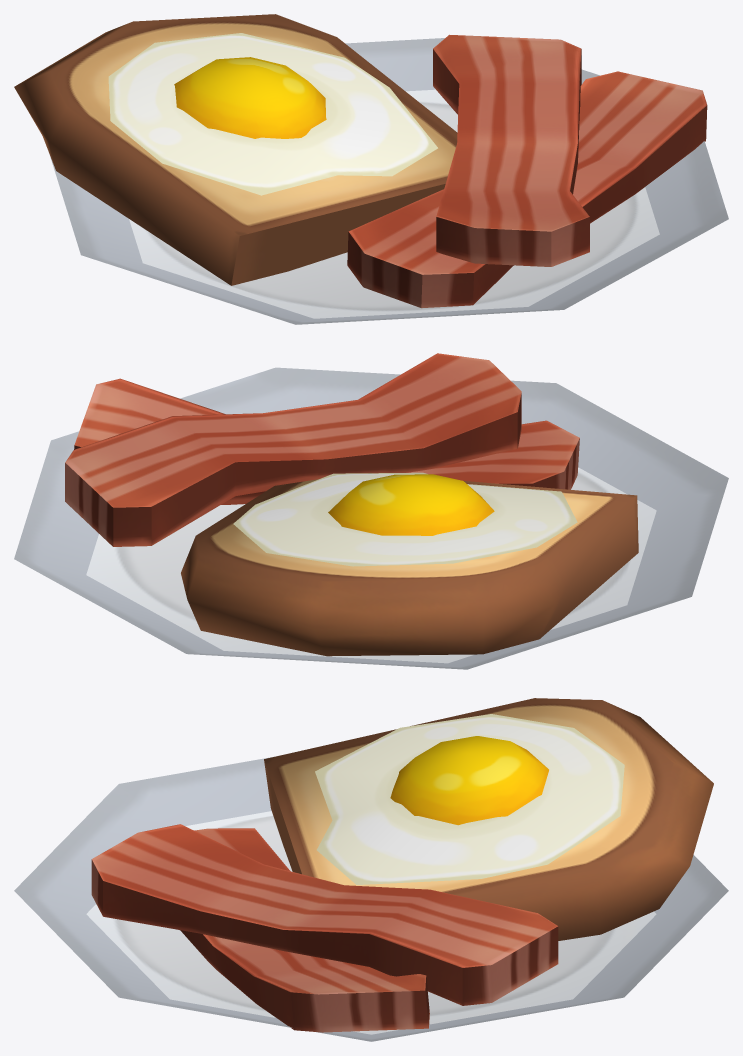
Rendered from bacon and egg.FBX.
3 views of the same model, one above another, from view 1: azimuth 30°, elevation 25°; view 2: azimuth 150°, elevation 25°; view 3: azimuth 270°, elevation 25° (orthographic). The views are drawn at different scales.
Parts seen in each view (by area): view 1: bacon and egg; view 2: bacon and egg; view 3: bacon and egg.
Boxes of the visible parts, <box> form: bacon and egg: <box>14,14,728,324</box>; bacon and egg: <box>14,353,728,669</box>; bacon and egg: <box>14,698,728,1041</box>.
Bounding box in the file's own units: 11.05 × 2.56 × 11.05.
